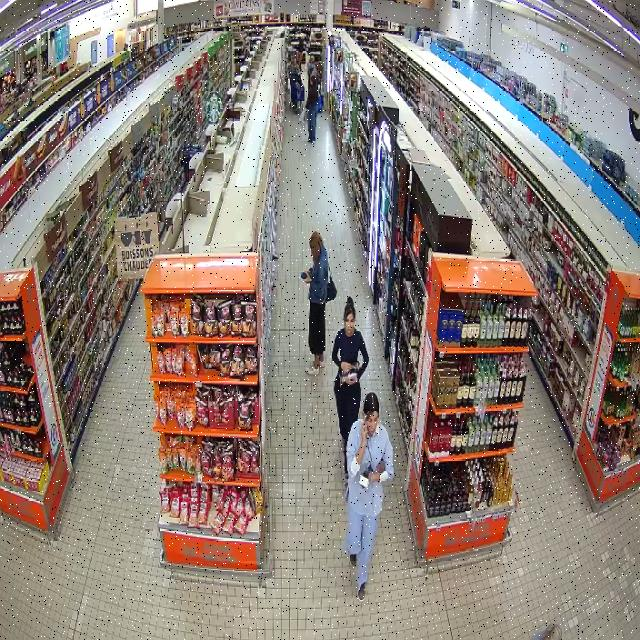article: (358, 462, 378, 493), (340, 372, 358, 387), (342, 361, 359, 376), (377, 461, 386, 473), (300, 273, 308, 279)
bags: (326, 276, 337, 302)
hands: (361, 422, 368, 441), (341, 362, 352, 373), (369, 473, 379, 482), (347, 377, 358, 385), (303, 272, 310, 284)
person: (345, 392, 394, 600), (332, 297, 368, 481), (301, 231, 329, 374)
